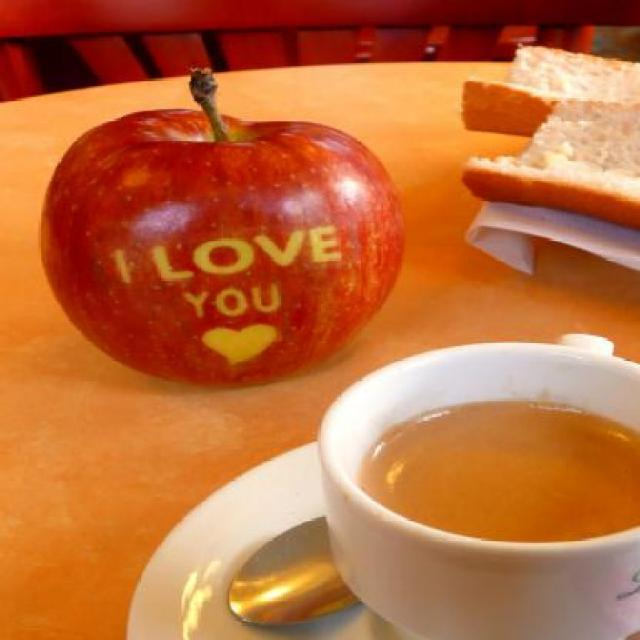Apple pie: (36, 95, 422, 407)
